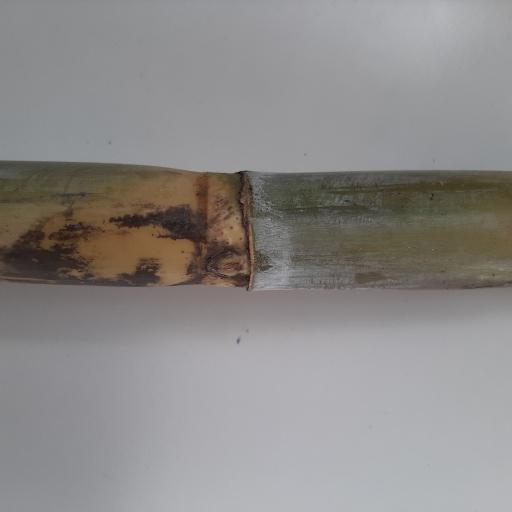Bud: (207, 250, 244, 277)
